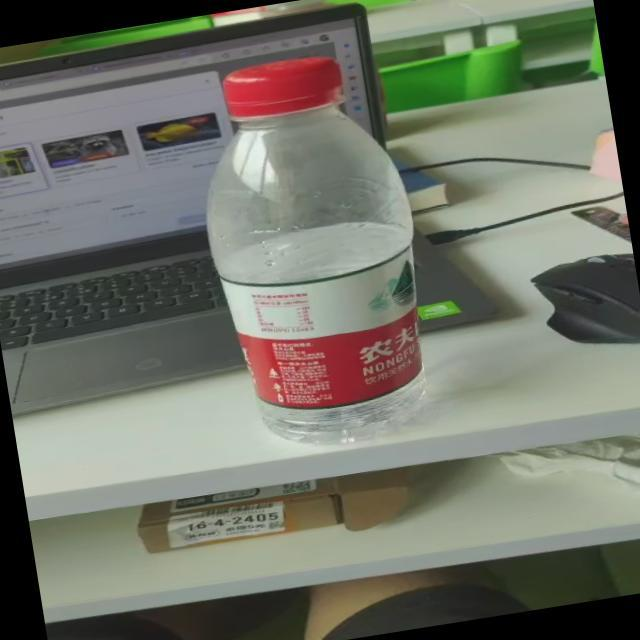good: (183, 39, 448, 464)
